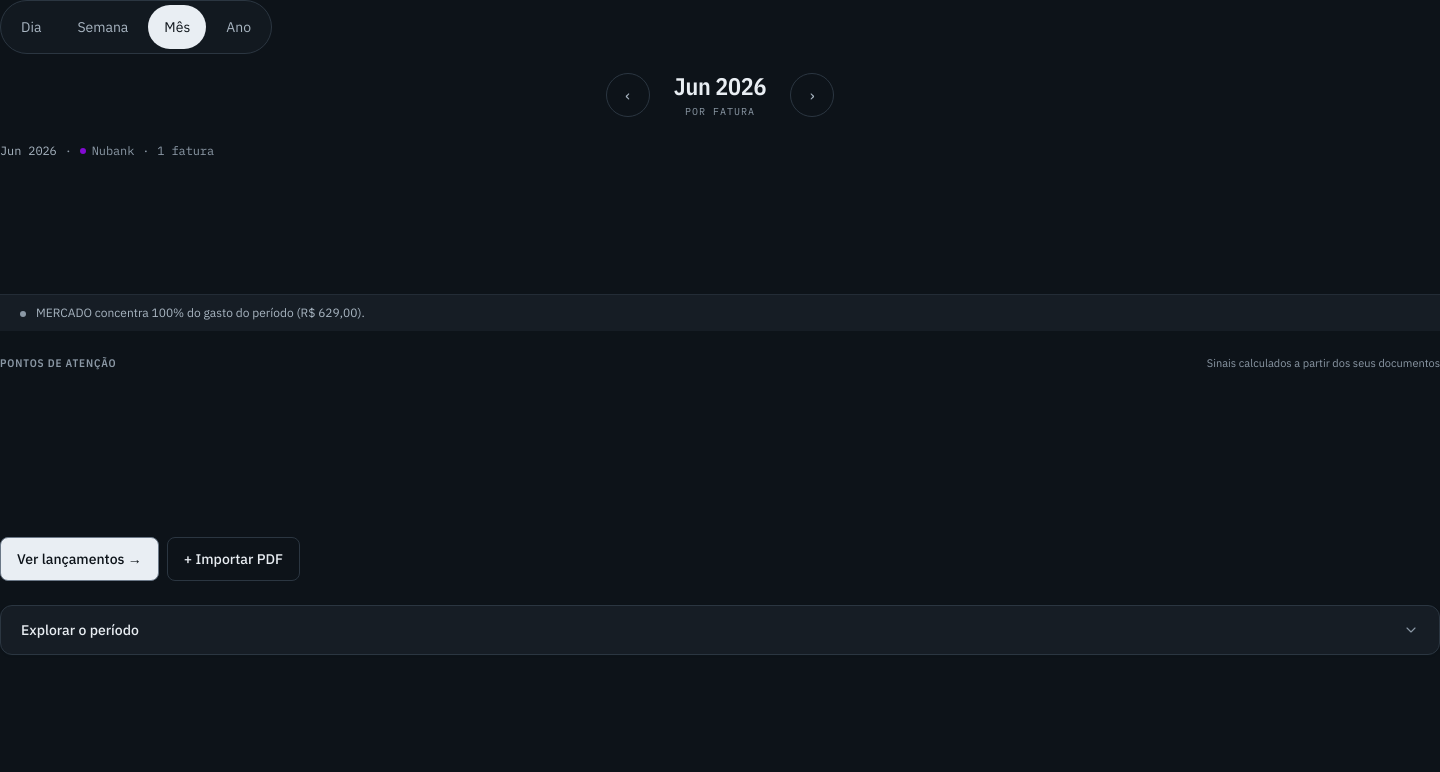
Scenario: Painel — o ritmo diário no período Dia › no período Mês nada é ampliado — a janela já era o mês
Step 1. Click the heading "Explorar o período" → click(80, 630), box [21,621,1419,639]
(page scrolled)
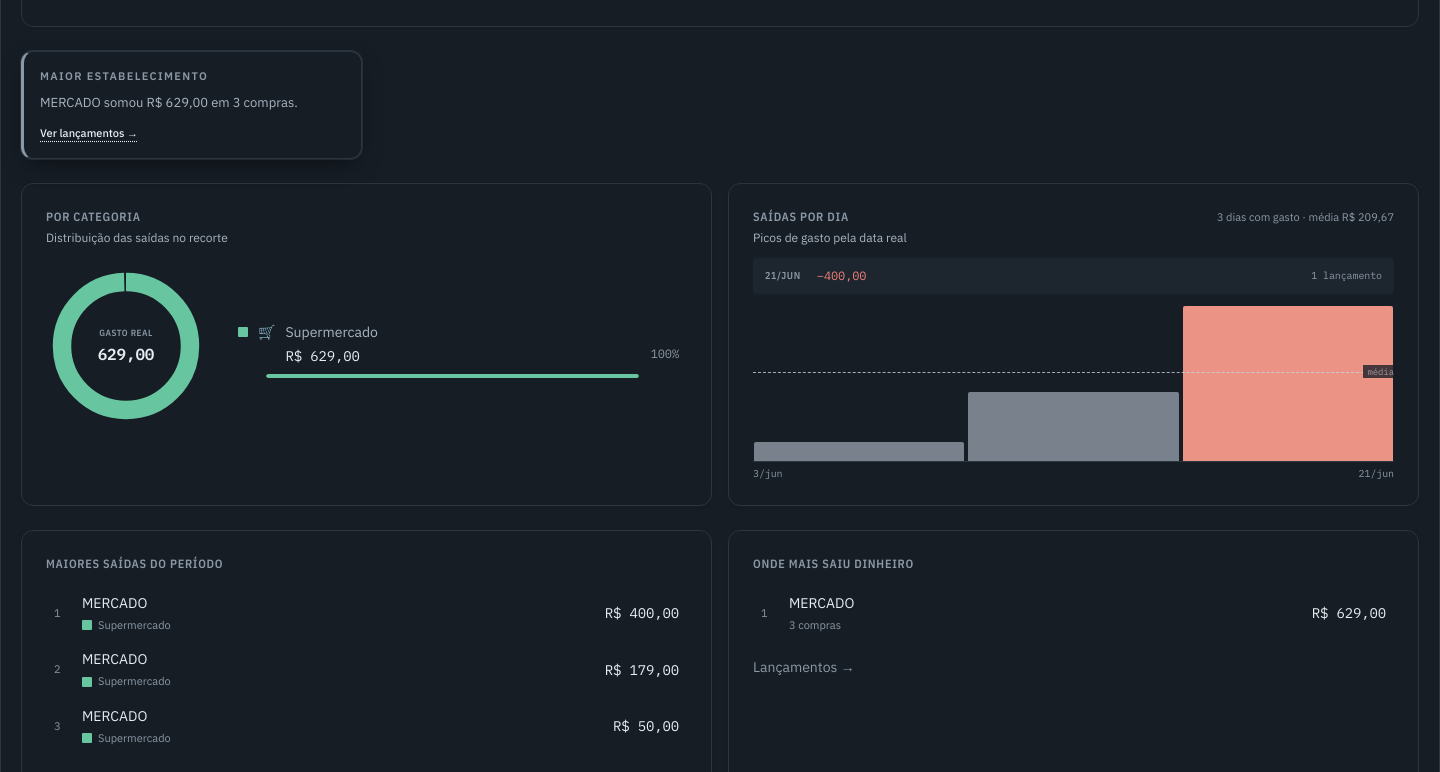
Result: the button named "3/jun" is shown at [753,302,965,461]
